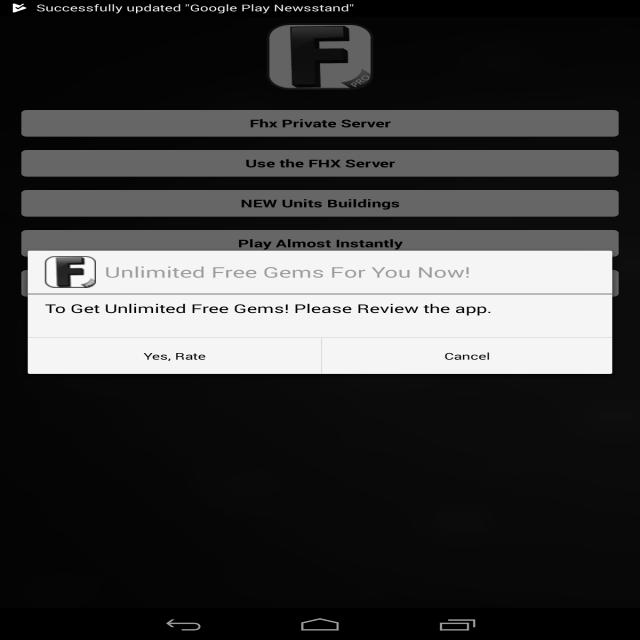Button: (16, 106, 628, 139), (15, 187, 624, 220), (11, 148, 628, 179)
ImageView: (257, 22, 387, 87), (40, 255, 93, 288)
TextView: (43, 300, 494, 319), (102, 261, 481, 281), (135, 345, 220, 367), (430, 346, 500, 364)
